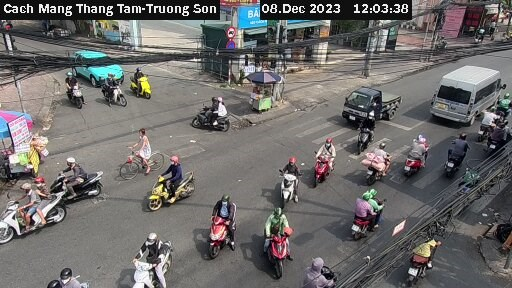car: (430, 64, 504, 128), (68, 49, 127, 86)
motorbike: (116, 237, 191, 288), (1, 189, 76, 239), (196, 187, 243, 258), (250, 204, 296, 275), (341, 188, 395, 242), (401, 221, 446, 285), (140, 168, 202, 214), (299, 137, 354, 188), (263, 160, 311, 210), (52, 164, 113, 203), (432, 131, 471, 179), (302, 248, 348, 288), (358, 143, 396, 183), (188, 94, 229, 131), (96, 75, 135, 110), (397, 136, 427, 176), (347, 116, 384, 148), (56, 73, 90, 106), (128, 68, 158, 98)
truck: (341, 81, 409, 123)
